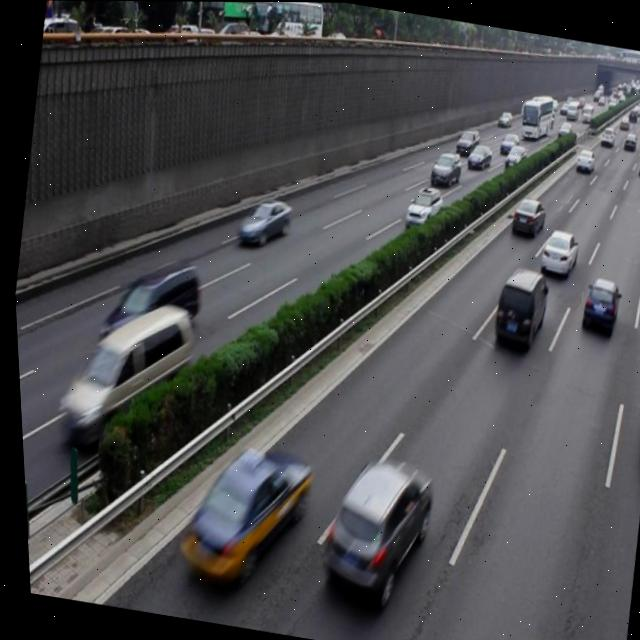car: (165, 432, 313, 591), (307, 448, 436, 614), (232, 193, 292, 252), (573, 271, 620, 336), (532, 225, 578, 279), (397, 183, 444, 234), (504, 193, 546, 239), (625, 359, 640, 471)
truck: (48, 289, 201, 461), (90, 247, 206, 359), (485, 262, 549, 351)
